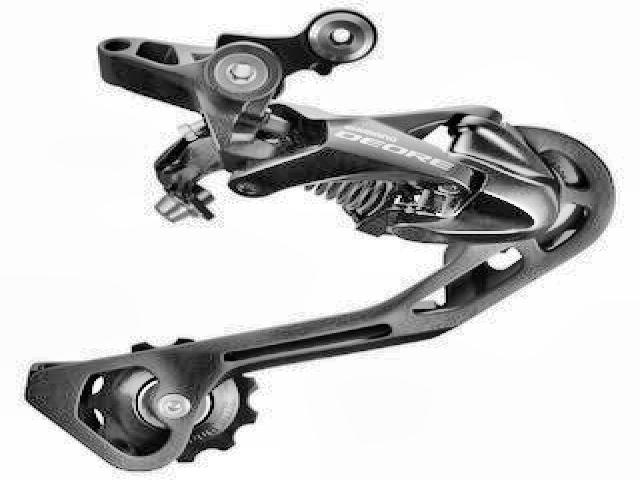rear_derailleur: (19, 14, 619, 470)
